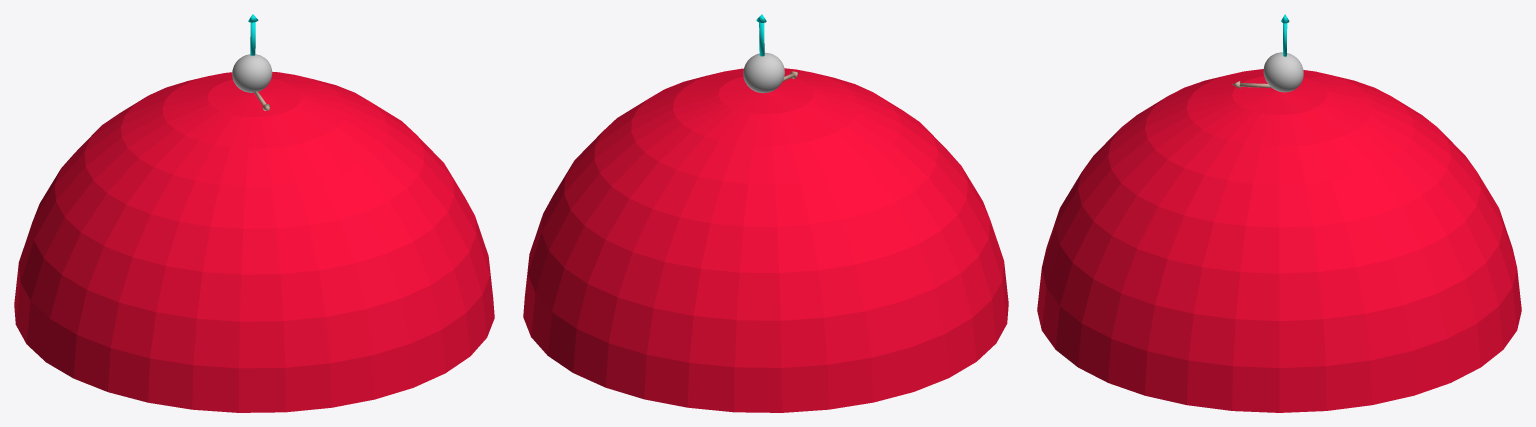
The model's file is cupula_new.glb.
3 views of the same model, side by side, from view 1: azimuth 30°, elevation 25°; view 2: azimuth 150°, elevation 25°; view 3: azimuth 270°, elevation 25° (orthographic).
Parts seen in each view (by area): view 1: Sphere, Sphere.001; view 2: Sphere, Sphere.001; view 3: Sphere, Sphere.001.
Boxes of the visible parts, x1,y1,x2,y2 form: Sphere: [14, 71, 494, 412]; Sphere.001: [232, 14, 272, 110]; Sphere: [523, 68, 1008, 412]; Sphere.001: [743, 14, 798, 93]; Sphere: [1037, 69, 1521, 412]; Sphere.001: [1232, 14, 1303, 92].
Bounding box in the file's own units: 12 × 8.11 × 12.
